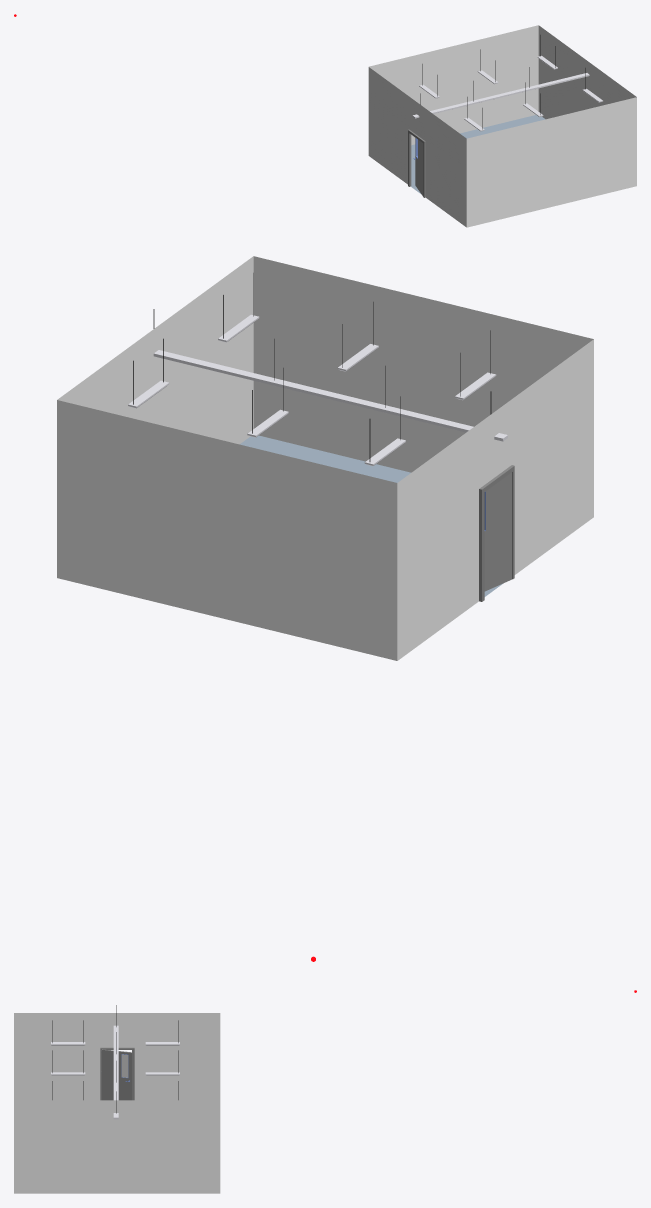
File: tutorial_room.fbx
The picture shows the model from 3 angles, top to bottom: view 1: azimuth 30°, elevation 25°; view 2: azimuth 150°, elevation 25°; view 3: azimuth 270°, elevation 25°; orthographic projection. The views are drawn at different scales.
Parts seen in each view (by area): view 1: Room, YlälistaTutorial, Pikkuovi.002, SisempiRunko.002; view 2: Room, SisempiRunko.002, YlälistaTutorial, Pikkuovi.002; view 3: Room, SisempiRunko.002, YlälistaTutorial, Pikkuovi.002.
Boxes of the visible parts, bbox=[...] form: Room: bbox=[368, 25, 636, 227]; YlälistaTutorial: bbox=[412, 73, 589, 118]; Pikkuovi.002: bbox=[408, 129, 425, 197]; SisempiRunko.002: bbox=[415, 138, 423, 196]; Room: bbox=[57, 256, 593, 660]; SisempiRunko.002: bbox=[484, 472, 511, 591]; YlälistaTutorial: bbox=[153, 350, 507, 441]; Pikkuovi.002: bbox=[479, 465, 514, 601]; Room: bbox=[14, 1013, 220, 1193]; SisempiRunko.002: bbox=[102, 1049, 132, 1100]; YlälistaTutorial: bbox=[113, 1025, 118, 1119]; Pikkuovi.002: bbox=[100, 1047, 134, 1100].
Size of the model in its own units: 1185 by 333 by 1810.
